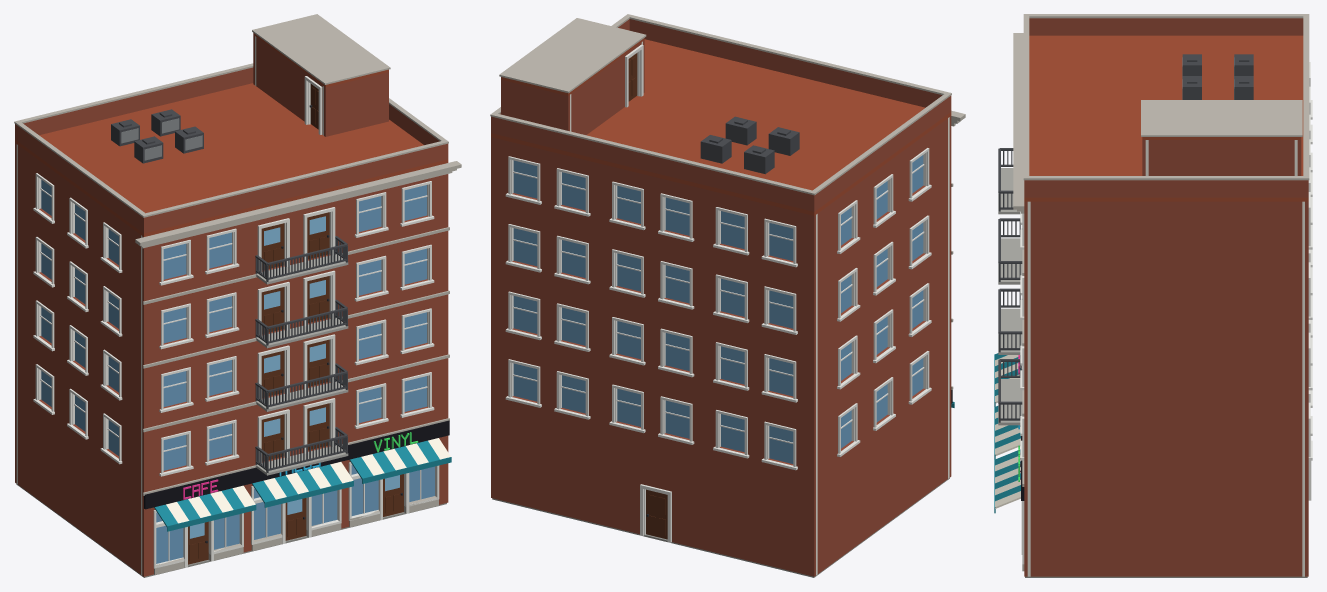
File: MidRiseBrick.glb
3 views of the same model, side by side, from view 1: azimuth 30°, elevation 25°; view 2: azimuth 150°, elevation 25°; view 3: azimuth 270°, elevation 25° (orthographic). The views are drawn at different scales.
Visible parts, largest first — view 1: MidRiseBrick_Brick, MidRiseBrick_Roof, MidRiseBrick_Trim, MidRiseBrick_Glass, MidRiseBrick_Stone, MidRiseBrick_Metal, MidRiseBrick_Awning, MidRiseBrick_Concrete, MidRiseBrick_Sign, MidRiseBrick_DecoAccent, MidRiseBrick_WallsIn, MidRiseBrick_Louver (+12 smaller); view 2: MidRiseBrick_Brick, MidRiseBrick_Roof, MidRiseBrick_Trim, MidRiseBrick_Glass, MidRiseBrick_Stone, MidRiseBrick_Metal, MidRiseBrick_WallsIn, MidRiseBrick_Door1, MidRiseBrick_Foundation; view 3: MidRiseBrick_Brick, MidRiseBrick_Roof, MidRiseBrick_Stone, MidRiseBrick_Metal, MidRiseBrick_Concrete, MidRiseBrick_Trim, MidRiseBrick_WallsIn, MidRiseBrick_DecoAccent, MidRiseBrick_Awning, MidRiseBrick_Foundation.
Boxes of the visible parts, x1=… form: MidRiseBrick_Brick: x1=15, y1=35, x2=448, y2=576; MidRiseBrick_Roof: x1=15, y1=33, x2=448, y2=236; MidRiseBrick_Trim: x1=33, y1=76, x2=439, y2=568; MidRiseBrick_Glass: x1=41, y1=180, x2=434, y2=563; MidRiseBrick_Stone: x1=14, y1=14, x2=461, y2=574; MidRiseBrick_Metal: x1=111, y1=109, x2=405, y2=488; MidRiseBrick_Awning: x1=154, y1=440, x2=451, y2=531; MidRiseBrick_Concrete: x1=255, y1=254, x2=348, y2=475; MidRiseBrick_Sign: x1=144, y1=420, x2=449, y2=509; MidRiseBrick_DecoAccent: x1=166, y1=438, x2=450, y2=523; MidRiseBrick_WallsIn: x1=16, y1=36, x2=323, y2=575; MidRiseBrick_Louver: x1=121, y1=118, x2=202, y2=160; MidRiseBrick_Brick: x1=491, y1=19, x2=951, y2=576; MidRiseBrick_Roof: x1=491, y1=38, x2=951, y2=215; MidRiseBrick_Trim: x1=505, y1=44, x2=931, y2=542; MidRiseBrick_Glass: x1=513, y1=155, x2=923, y2=463; MidRiseBrick_Stone: x1=490, y1=14, x2=965, y2=389; MidRiseBrick_Metal: x1=700, y1=116, x2=799, y2=174; MidRiseBrick_WallsIn: x1=570, y1=41, x2=949, y2=575; MidRiseBrick_Door1: x1=646, y1=489, x2=667, y2=539; MidRiseBrick_Foundation: x1=492, y1=478, x2=949, y2=577; MidRiseBrick_Brick: x1=1024, y1=18, x2=1308, y2=576; MidRiseBrick_Roof: x1=1024, y1=35, x2=1308, y2=201; MidRiseBrick_Stone: x1=1013, y1=14, x2=1309, y2=571; MidRiseBrick_Metal: x1=998, y1=54, x2=1253, y2=479; MidRiseBrick_Concrete: x1=998, y1=168, x2=1021, y2=425; MidRiseBrick_Trim: x1=1020, y1=62, x2=1312, y2=564; MidRiseBrick_WallsIn: x1=1027, y1=140, x2=1304, y2=576; MidRiseBrick_DecoAccent: x1=995, y1=355, x2=1020, y2=508; MidRiseBrick_Awning: x1=994, y1=353, x2=1020, y2=513; MidRiseBrick_Foundation: x1=1025, y1=576, x2=1307, y2=577.
Bounding box in the file's own units: 63.4 × 75.2 × 49.2.
